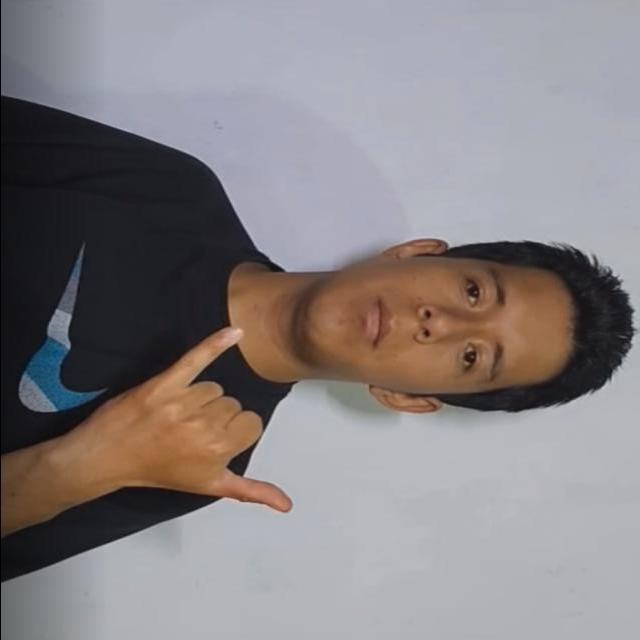Y: (72, 314, 318, 536)
